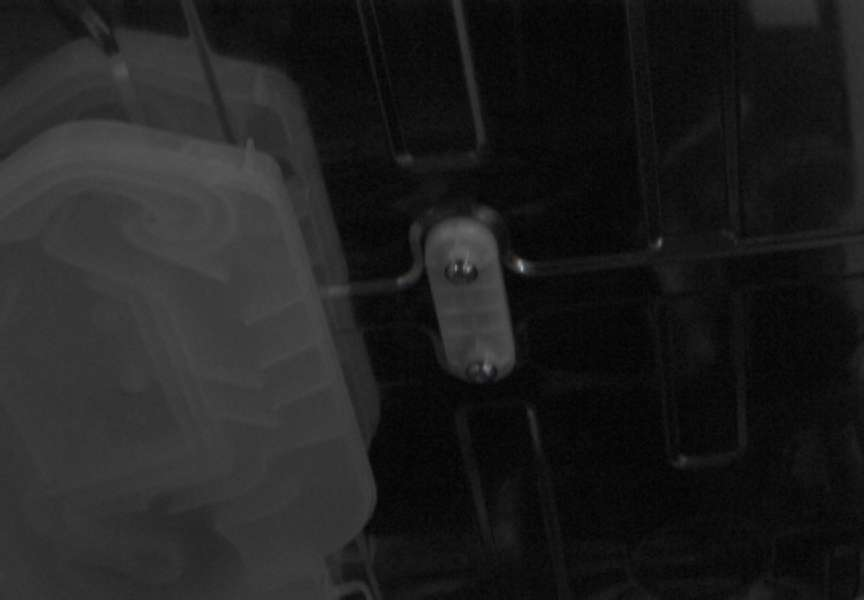screw: (444, 259, 479, 284), (466, 361, 498, 384)
